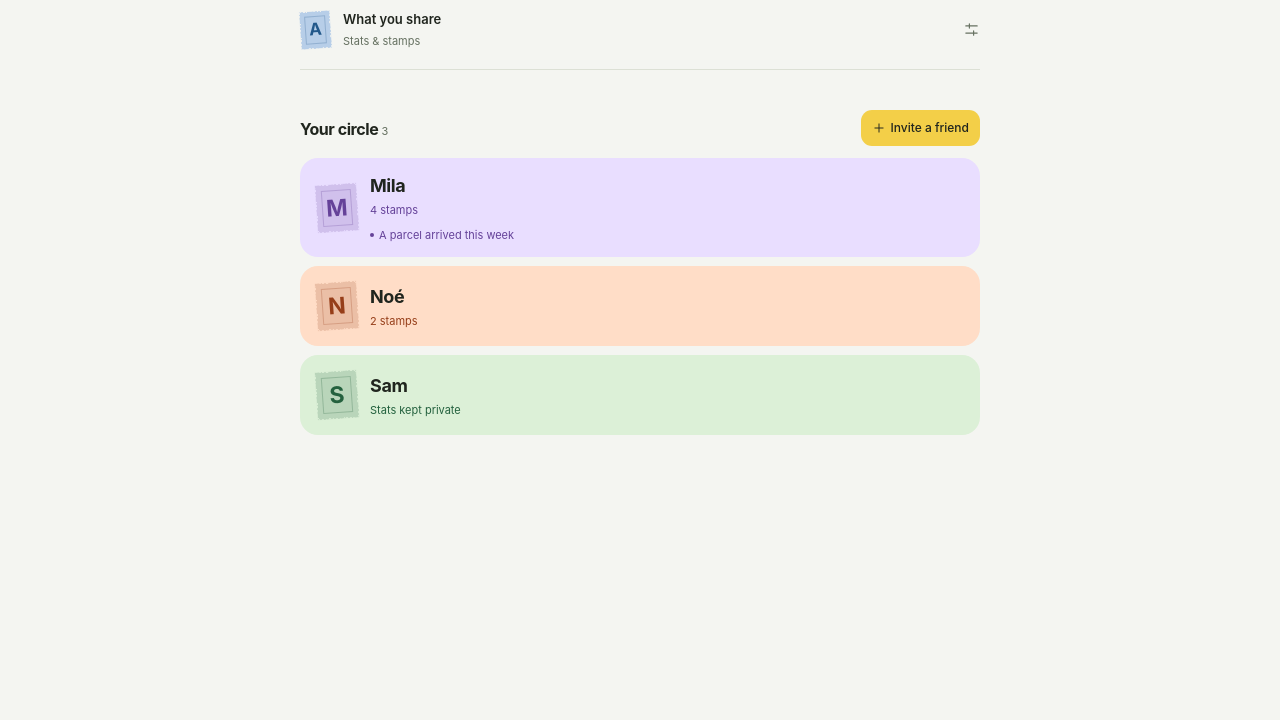
Scenario: Friends › prepares a single-use link on the first invite click, then copies and revokes it
Click the button "Invite a friend": click(920, 128) [860, 110, 980, 146]
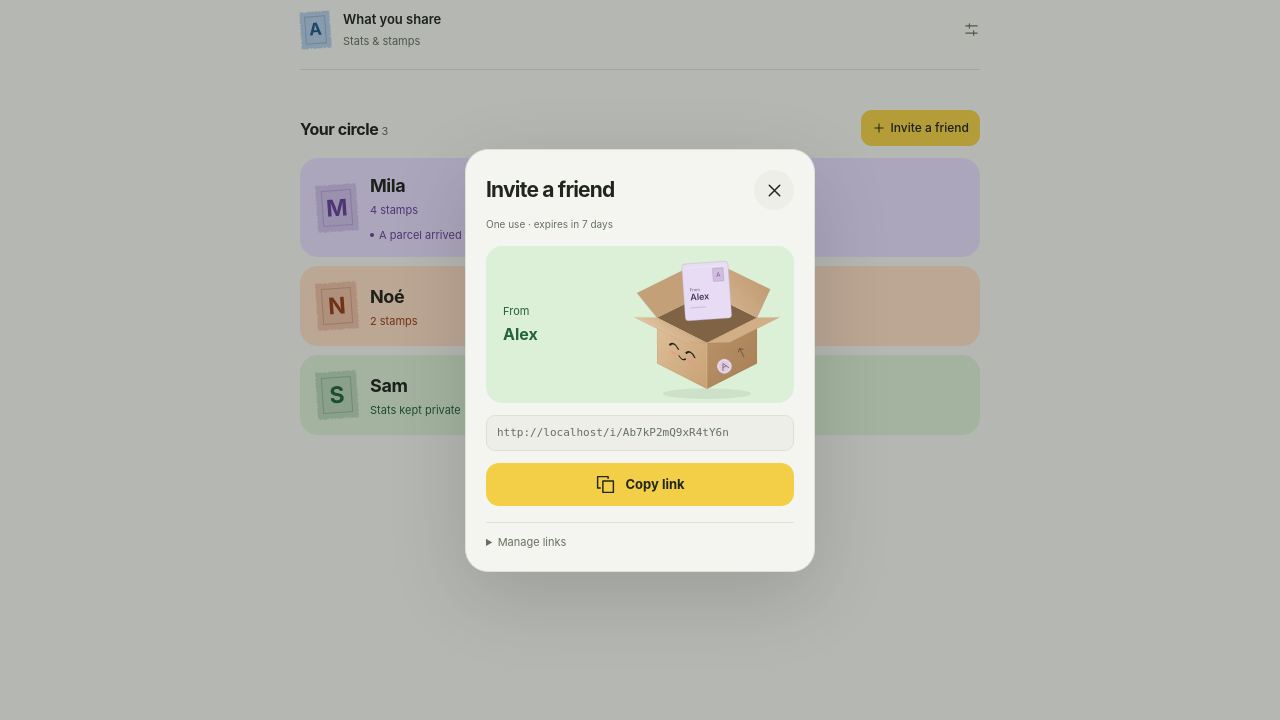
Check: the field named "Invitation link" is shown, box [486, 415, 794, 451]
Click the heading "Manage links": click(532, 542) [498, 535, 566, 549]
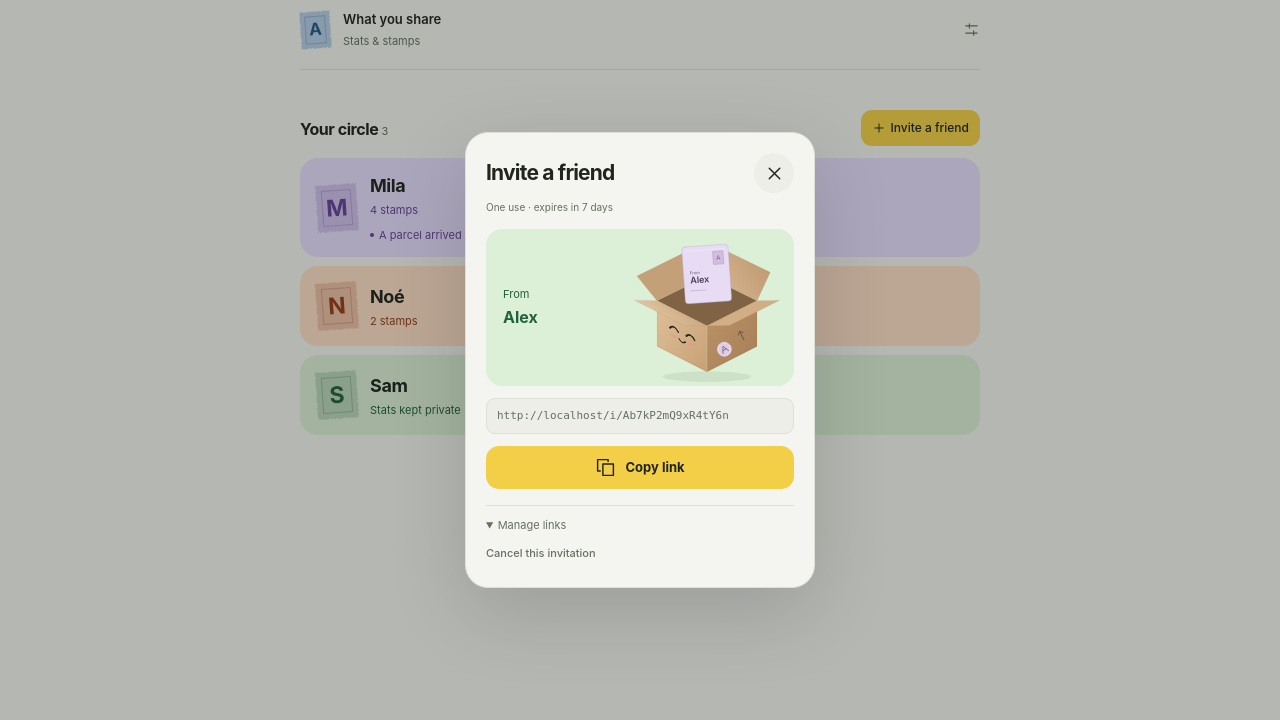
Click the button "Copy link": click(640, 468) [486, 446, 794, 489]
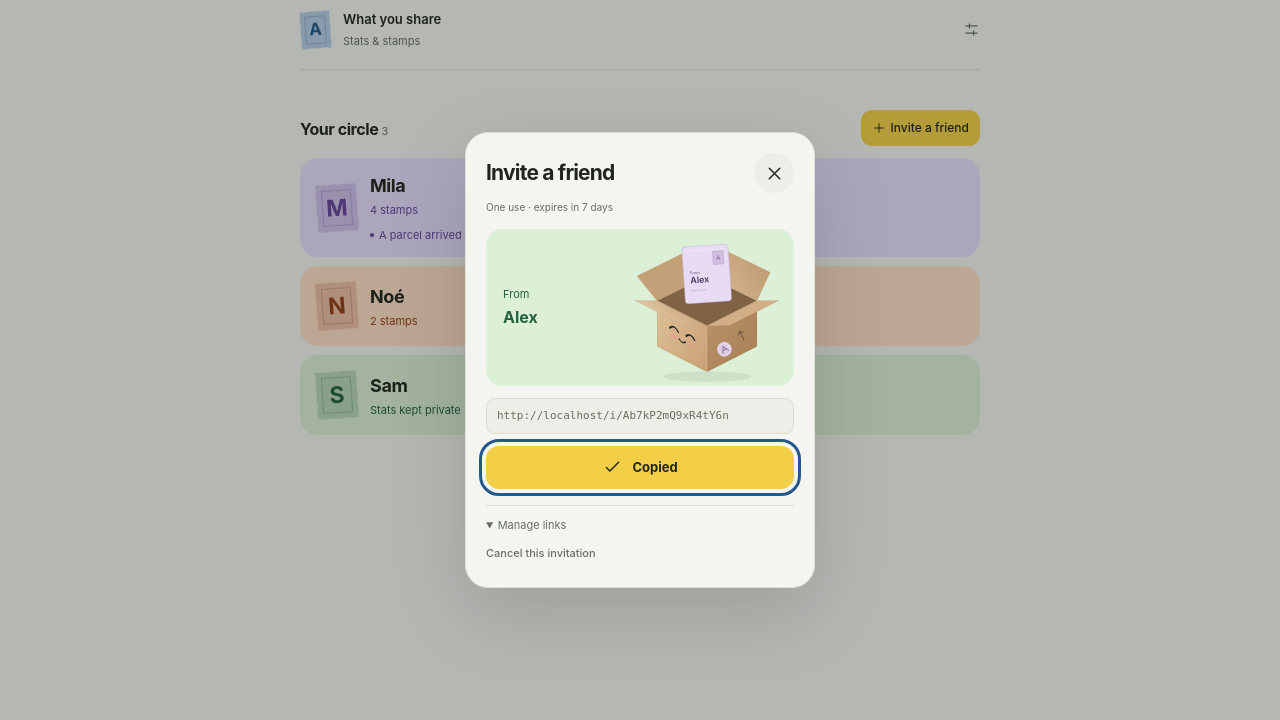
Check: the button "Copied" is shown, box [486, 446, 794, 489]
Focus the field named "Invitation link": (640, 416) [486, 398, 794, 434]
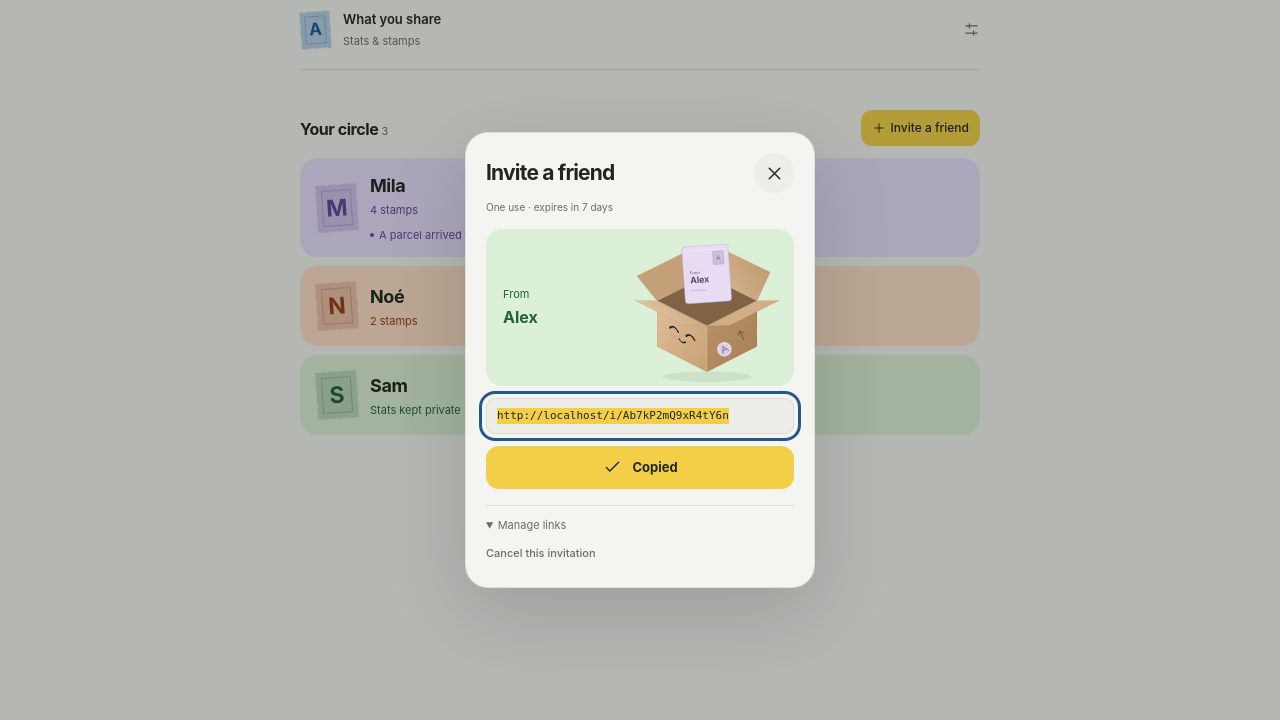
Click the button "Cancel this invitation": click(541, 553) [486, 539, 596, 567]
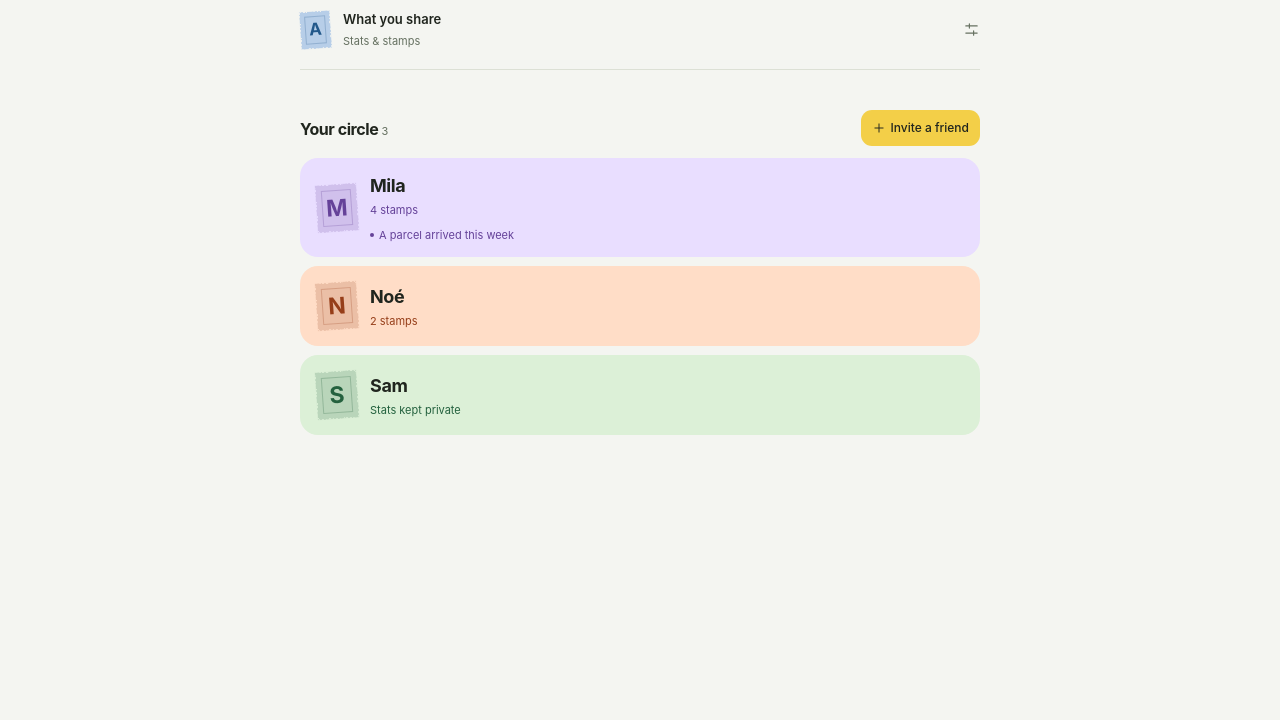
Check: the dialog is gone
